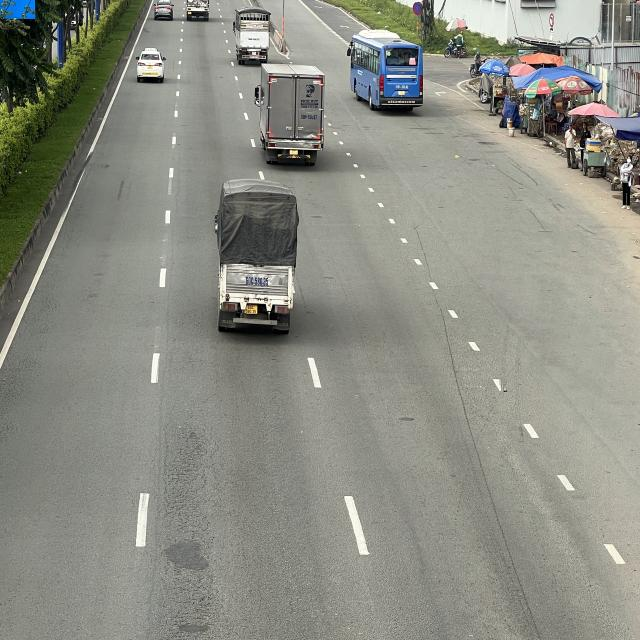car: (137, 49, 167, 83), (154, 0, 174, 20)
coach: (348, 31, 423, 111)
truck: (217, 183, 302, 338), (255, 62, 326, 168), (235, 8, 273, 66)
